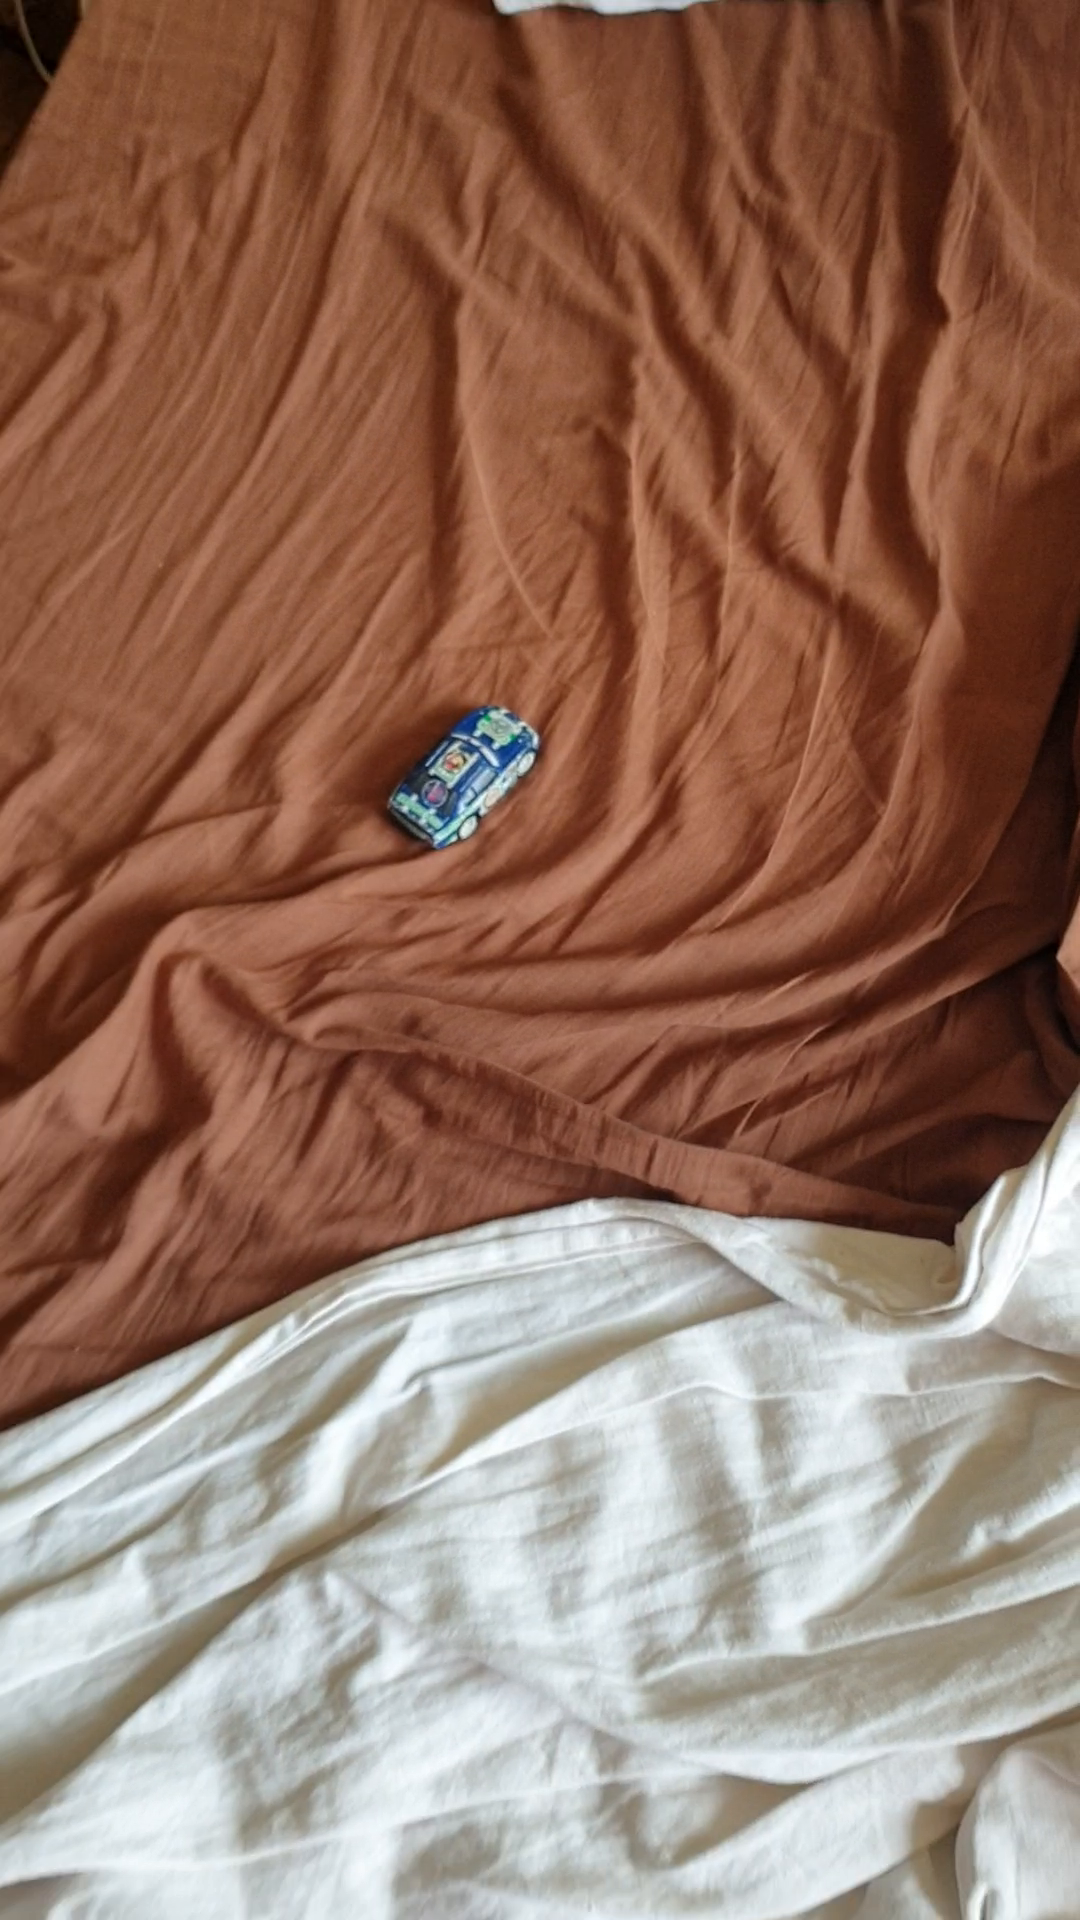cars: (382, 703, 543, 855)
